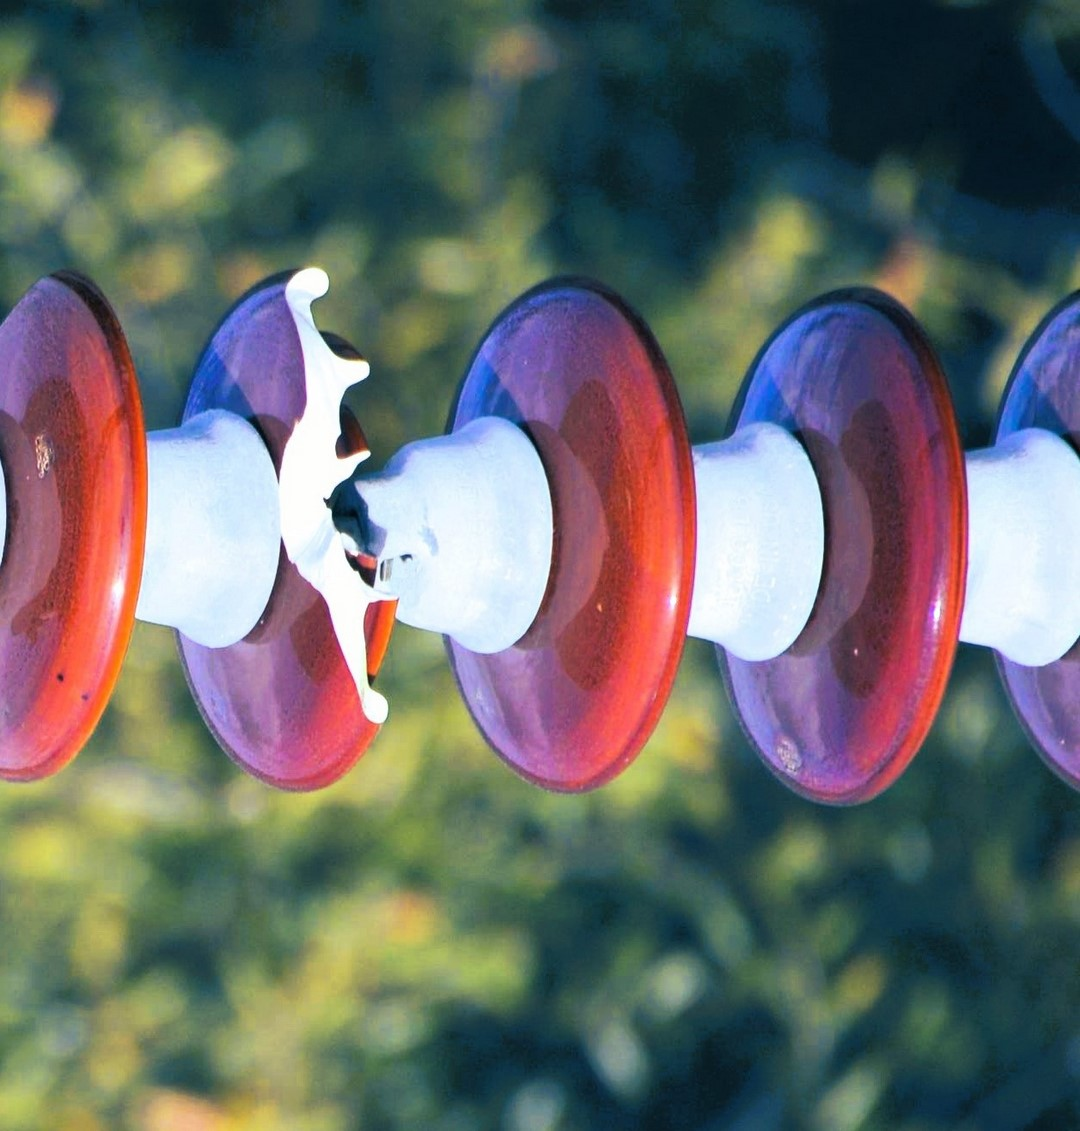insulator breakage: (148, 245, 420, 797)
